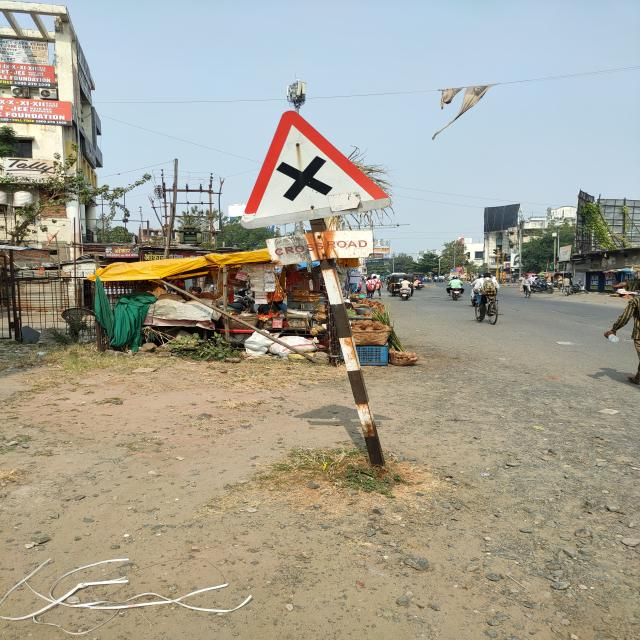CROSS_ROAD: (230, 106, 398, 232)
